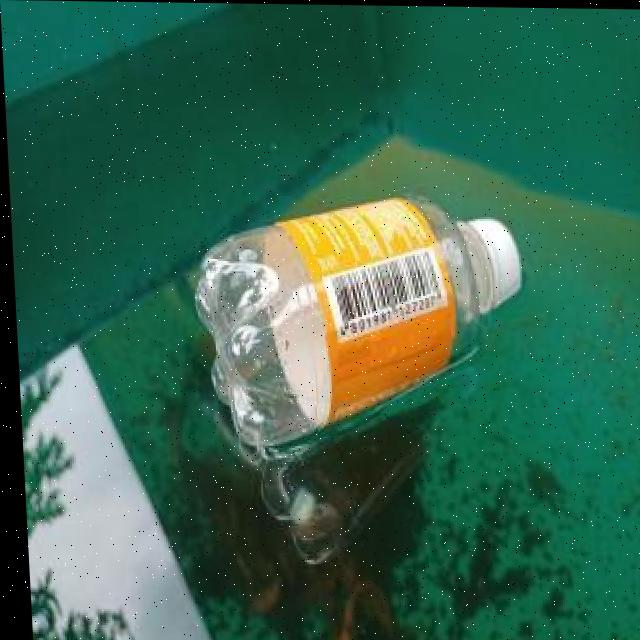bottle: (189, 189, 529, 451)
